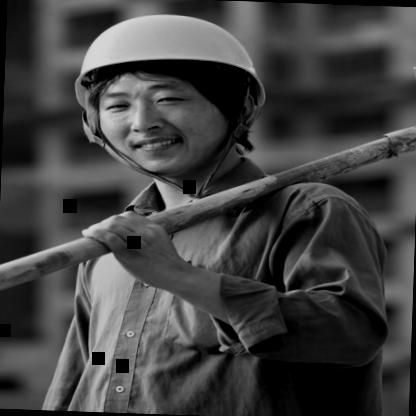helmet: (37, 0, 294, 184)
